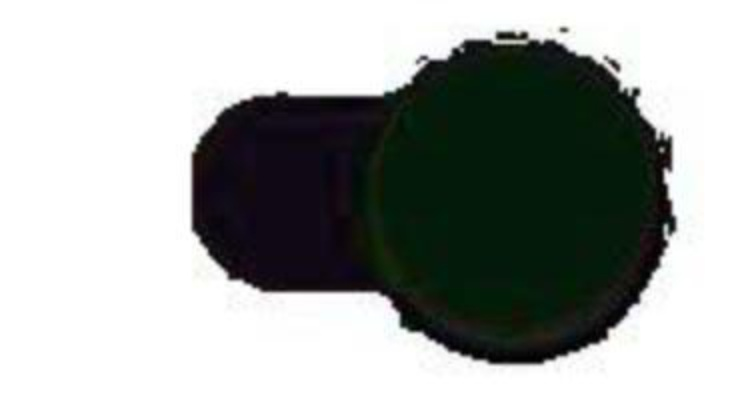Switch: (1, 1, 743, 419)
